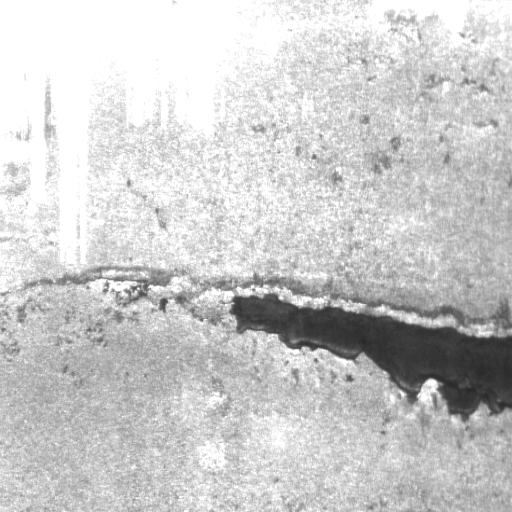aokeng: (226, 288, 512, 425)
